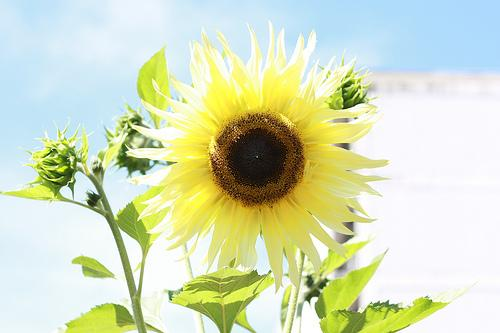sunflower: (133, 23, 387, 280)
